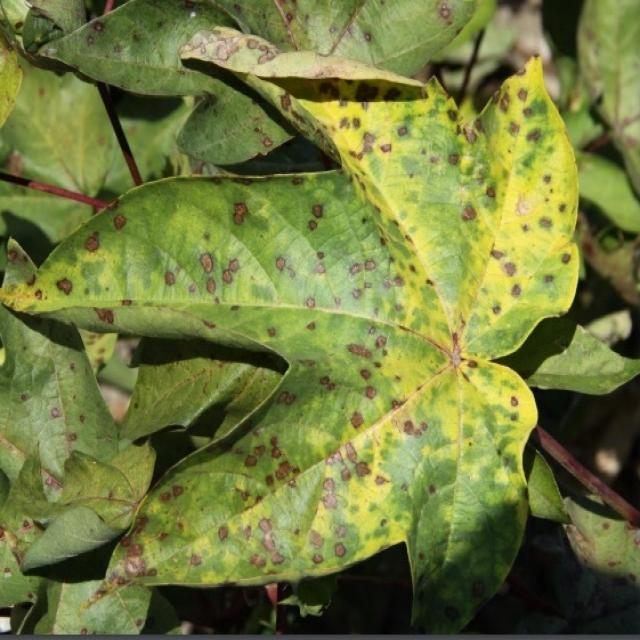Bacterial Blight: (159, 166, 464, 517)
